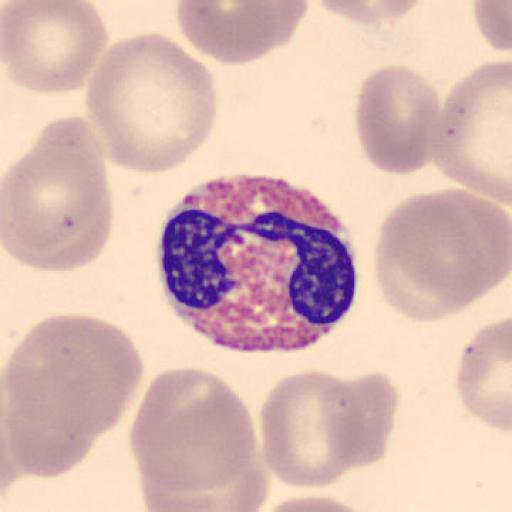RBC: (128, 366, 266, 511), (0, 310, 119, 477), (86, 32, 218, 174), (2, 312, 144, 443), (373, 188, 506, 324), (0, 123, 114, 275), (400, 186, 512, 308), (130, 365, 248, 478), (41, 312, 145, 436), (373, 202, 476, 324), (259, 370, 361, 490), (429, 58, 512, 199), (2, 365, 99, 478), (0, 0, 110, 96), (354, 64, 442, 178), (174, 0, 310, 65), (323, 371, 399, 470), (143, 455, 271, 512), (455, 316, 512, 434), (310, 0, 424, 27), (252, 493, 380, 512), (472, 1, 512, 53), (312, 0, 395, 24), (229, 0, 311, 24), (359, 0, 425, 23)
WBC: (157, 174, 361, 354)
